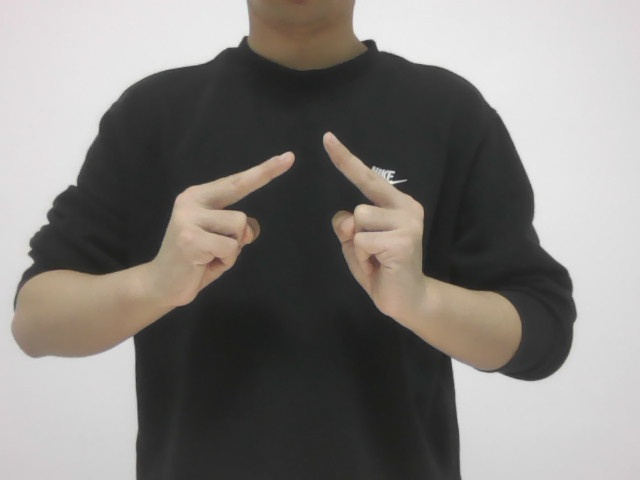know: (149, 121, 424, 342)
